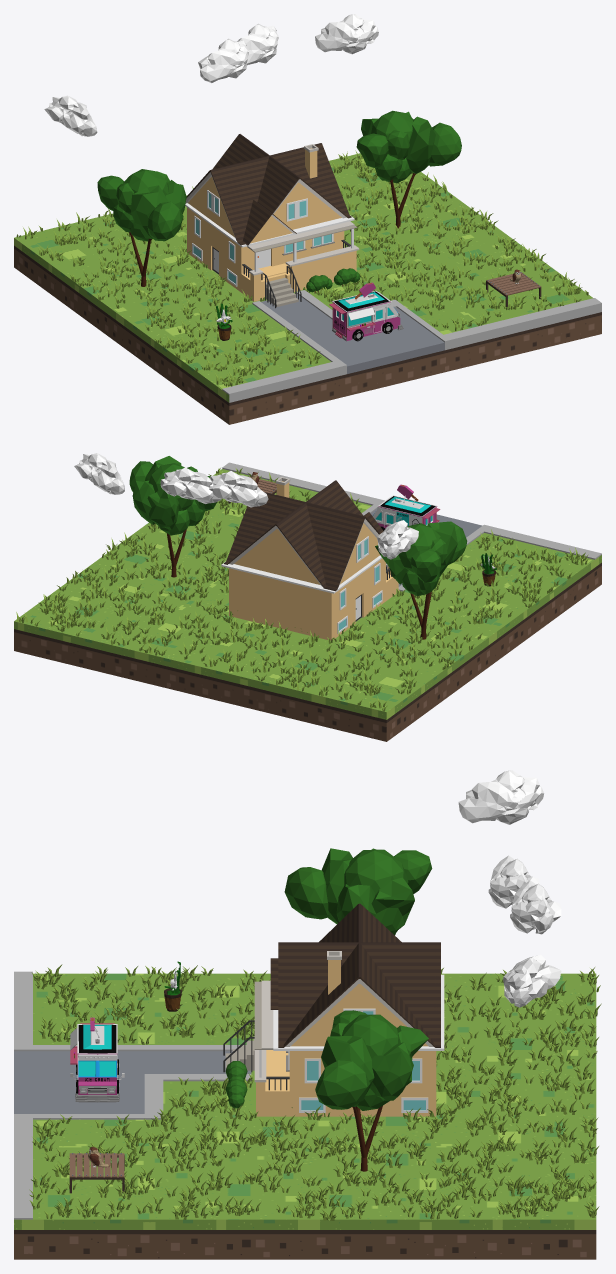
3 views of the same model, one above another, from view 1: azimuth 30°, elevation 25°; view 2: azimuth 150°, elevation 25°; view 3: azimuth 270°, elevation 25° (orthographic). The views are drawn at different scales.
Visible parts, largest first — view 1: Cube.006, Cube.235, Circle.012_Grass_0.192, Cube.007, tree, tree.001, VEHICLES_ICE_CREAM_TRUCK, Cube.009; view 2: Cube.006, Cube.235, Circle.012_Grass_0.192, Cube.007, tree.001, tree, VEHICLES_ICE_CREAM_TRUCK; view 3: Cube.006, Circle.012_Grass_0.192, Cube.235, tree, Cube.007, tree.001, VEHICLES_ICE_CREAM_TRUCK, Cube.009.
Boxes of the visible parts, left/top/right/bottom form: Cube.006: left=14, top=153, right=601, bottom=424; Cube.235: left=185, top=134, right=359, bottom=308; Circle.012_Grass_0.192: left=16, top=150, right=588, bottom=386; Cube.007: left=44, top=14, right=378, bottom=136; tree: left=356, top=110, right=461, bottom=228; tree.001: left=97, top=169, right=186, bottom=286; VEHICLES_ICE_CREAM_TRUCK: left=329, top=282, right=403, bottom=341; Cube.009: left=486, top=272, right=541, bottom=306; Cube.006: left=14, top=462, right=601, bottom=741; Cube.235: left=221, top=477, right=398, bottom=640; Circle.012_Grass_0.192: left=16, top=468, right=588, bottom=711; Cube.007: left=74, top=453, right=418, bottom=559; tree.001: left=375, top=521, right=467, bottom=639; tree: left=129, top=456, right=216, bottom=577; VEHICLES_ICE_CREAM_TRUCK: left=372, top=484, right=440, bottom=530; Cube.006: left=14, top=971, right=596, bottom=1259; Circle.012_Grass_0.192: left=29, top=964, right=601, bottom=1220; Cube.235: left=223, top=903, right=444, bottom=1116; tree: left=315, top=1010, right=428, bottom=1171; Cube.007: left=458, top=770, right=561, bottom=1007; tree.001: left=284, top=848, right=432, bottom=935; VEHICLES_ICE_CREAM_TRUCK: left=70, top=1017, right=124, bottom=1102; Cube.009: left=69, top=1153, right=124, bottom=1193.
Bounding box in the file's own units: 4071 × 2176 × 4040.
Materials: 50 (3 with a texture image).
